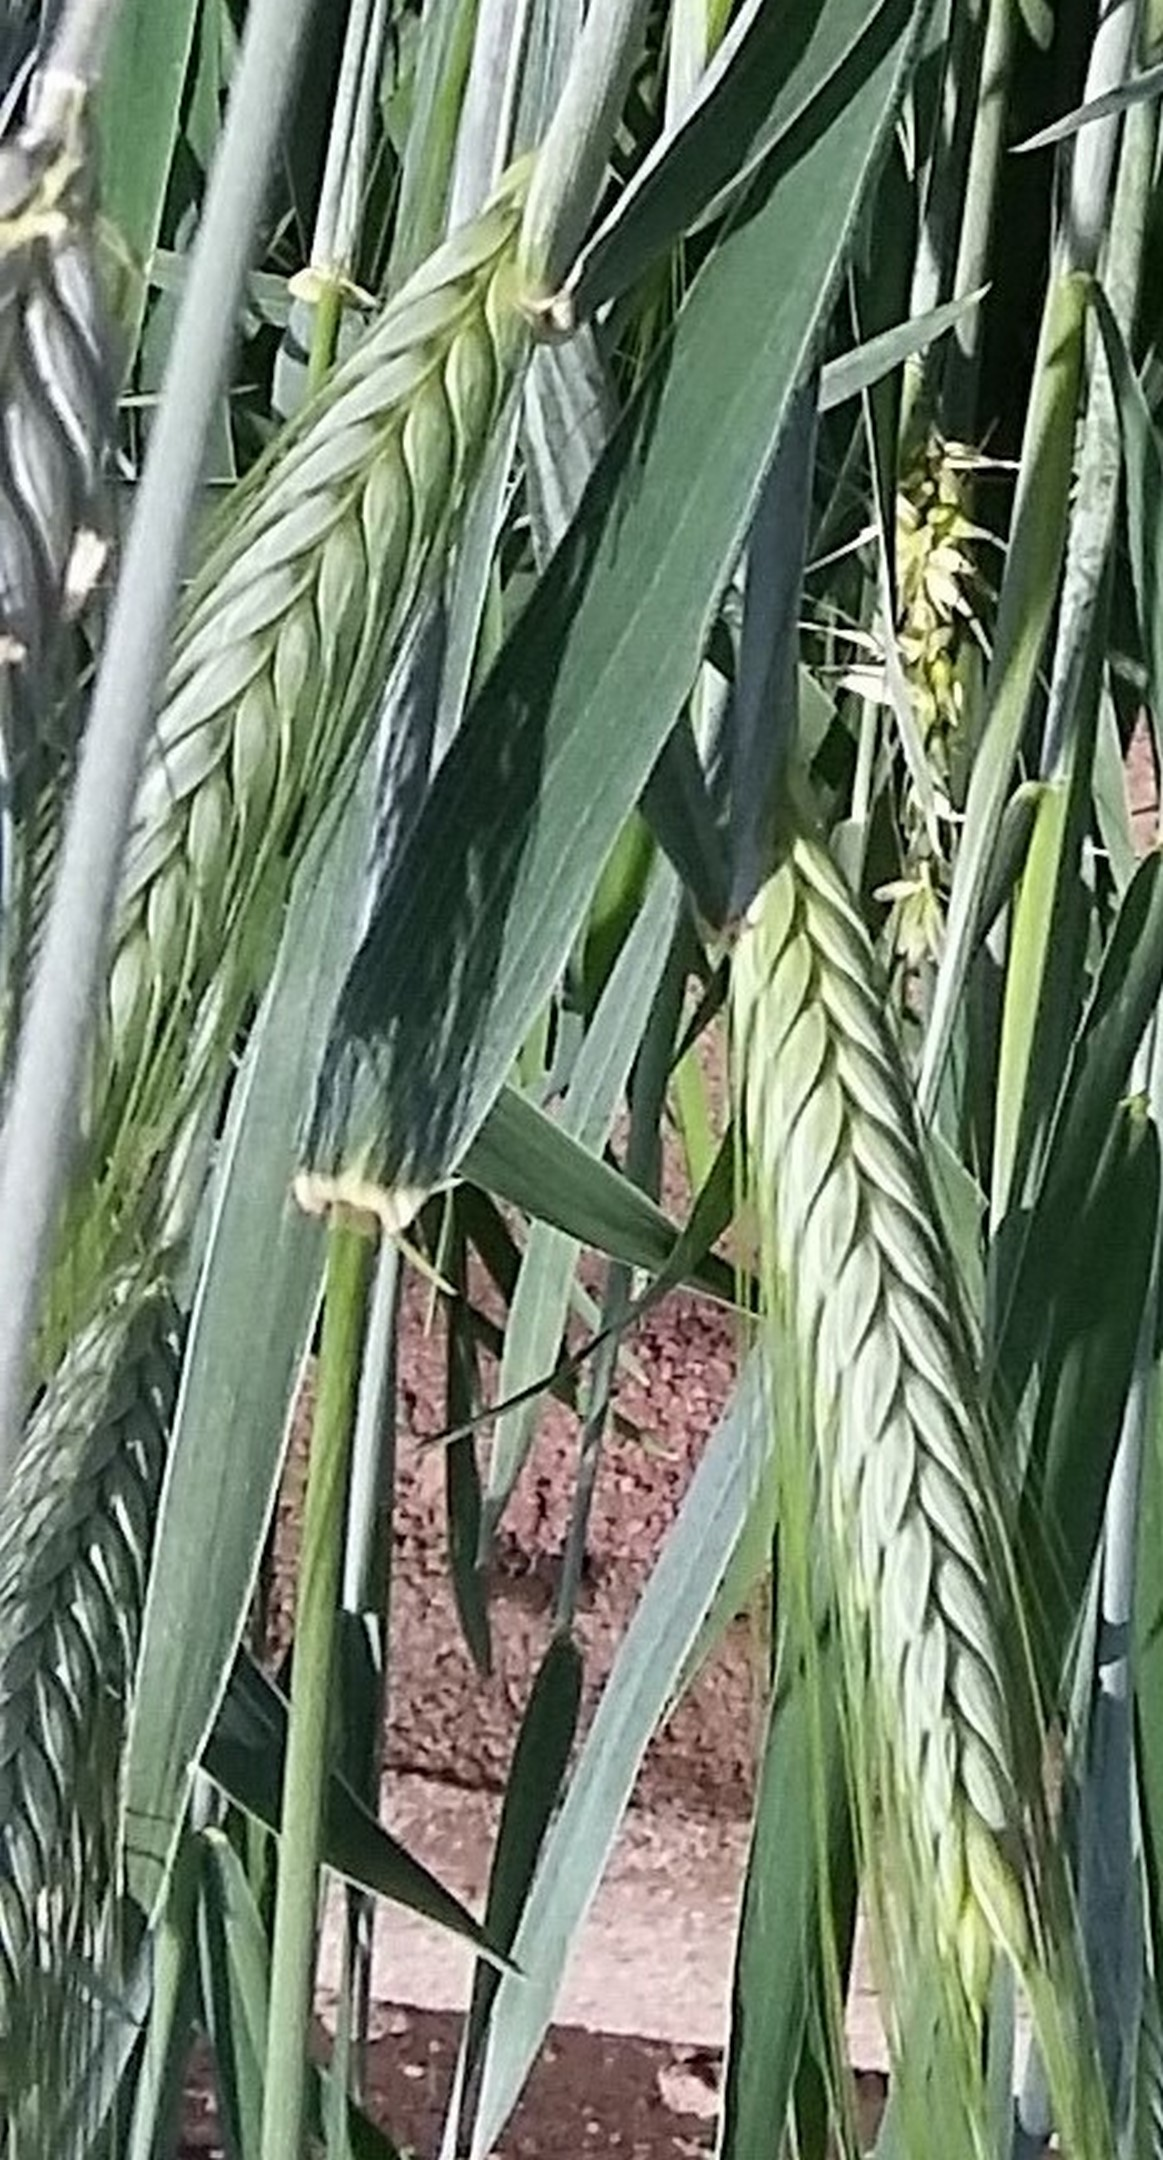Healthy Wheat: (710, 847, 1109, 1975)
